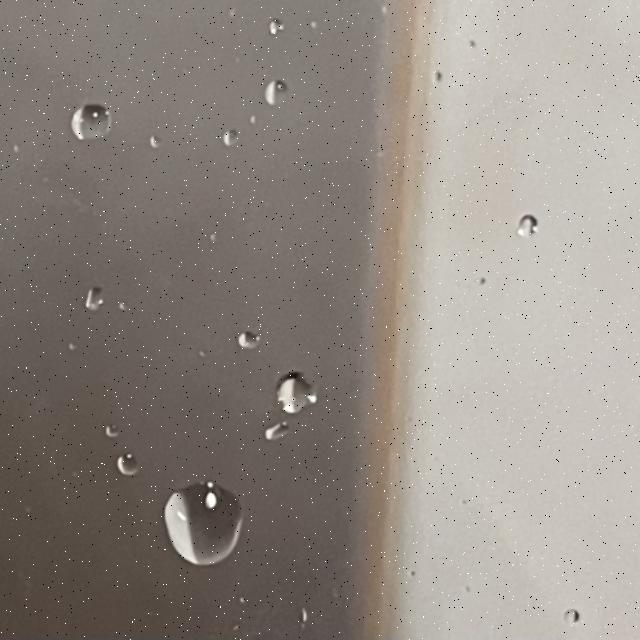raindrop: (157, 482, 248, 567), (272, 364, 321, 416), (67, 92, 113, 140), (108, 448, 142, 491), (233, 322, 270, 359), (73, 277, 105, 316), (255, 416, 288, 448), (256, 80, 290, 109), (513, 213, 539, 241), (213, 126, 236, 156), (258, 14, 284, 40), (563, 599, 586, 627), (88, 424, 120, 443), (291, 604, 314, 624), (142, 132, 163, 152), (421, 72, 442, 91), (458, 37, 478, 49)
